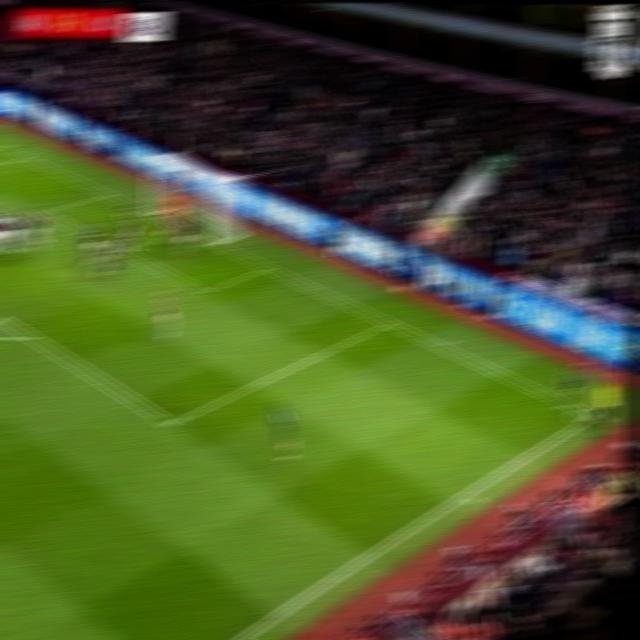bigarea_bottom_inner: (156, 408, 185, 438)
bigarea_bottom_outter: (375, 311, 401, 333)
bigarea_top_outter: (14, 148, 35, 164)
bottom_arc_area_intersection: (19, 325, 46, 347)
smallarea_bottom_inner: (189, 276, 216, 303)
smallarea_bottom_outter: (254, 256, 278, 275)
smallarea_top_inner: (34, 201, 55, 220)
smallarea_top_outter: (581, 404, 604, 425), (95, 186, 116, 204)
